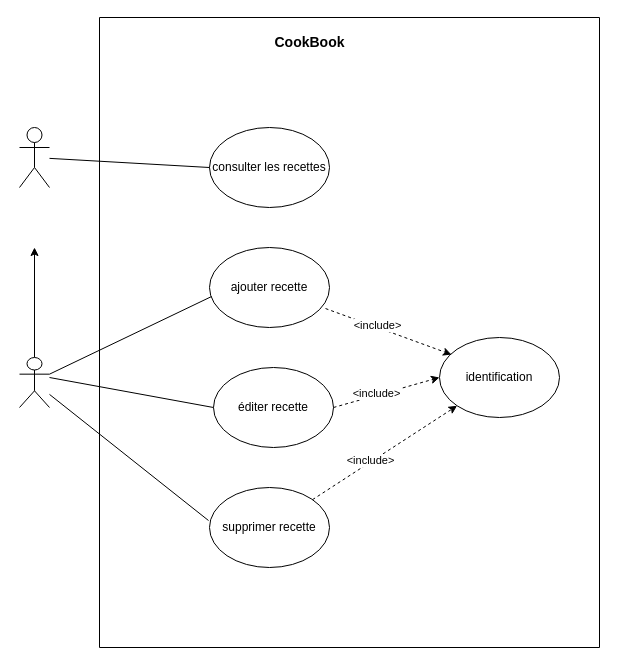
Some shapes in this 617 by 665 pixel diagram are drawn without their labels. Each missing label, with the centre of its shape:
Admin: [34,382]
User: [34,157]
